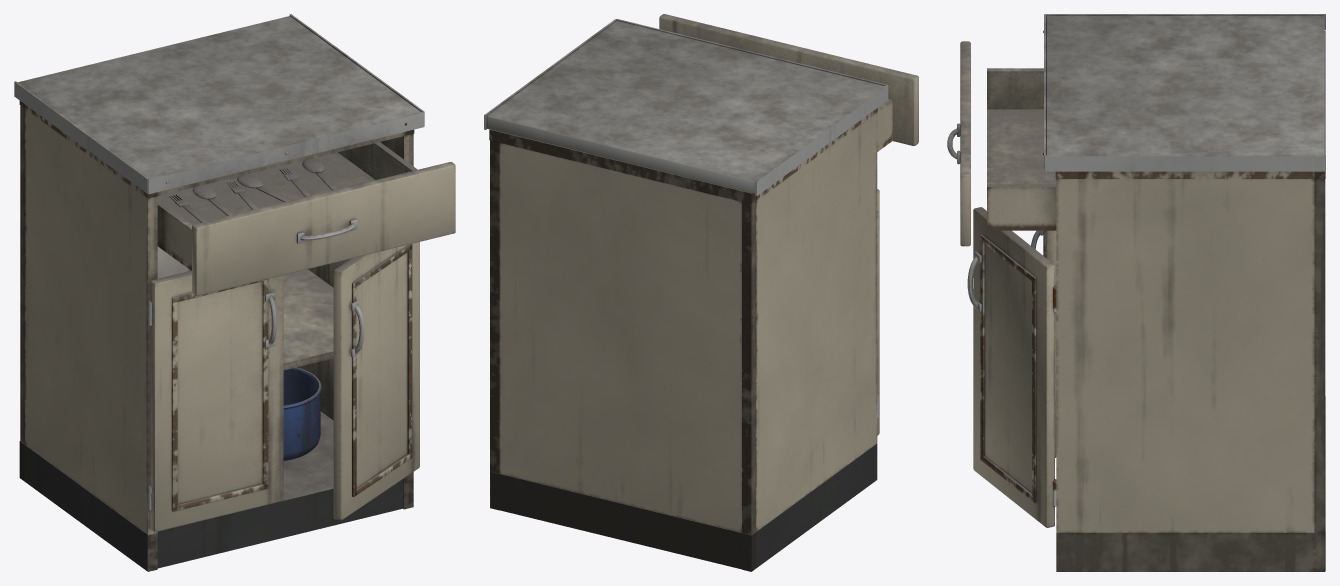
The model's file is SM_KitchenCabinet_Base.fbx.
3 views of the same model, side by side, from view 1: azimuth 30°, elevation 25°; view 2: azimuth 150°, elevation 25°; view 3: azimuth 270°, elevation 25° (orthographic). The views are drawn at different scales.
Parts seen in each view (by area): view 1: SM_KitchenCabinet_Base; view 2: SM_KitchenCabinet_Base; view 3: SM_KitchenCabinet_Base.
Part boxes in pixels (box(x1,y1,x2,y2)): SM_KitchenCabinet_Base: box(14, 14, 455, 571); SM_KitchenCabinet_Base: box(484, 14, 918, 571); SM_KitchenCabinet_Base: box(947, 14, 1325, 571).
Bounding box in the file's own units: 0.628 × 0.8619 × 0.7065.
Materials: 2 (1 with a texture image).
